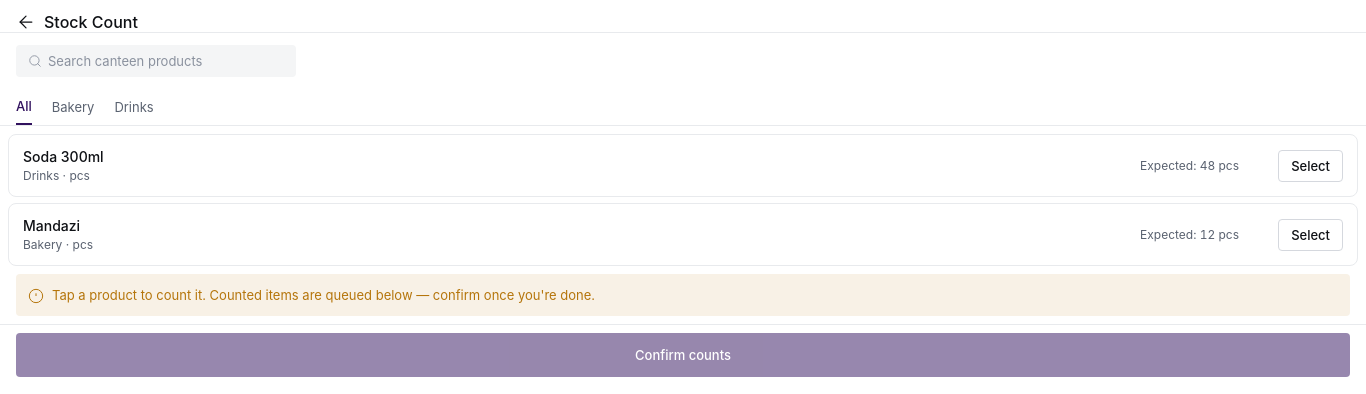
Scenario: K1 Canteen Stock Count Screen › Remove closes a row without submitting it
Expected: the text "Soda 300ml" is shown, [23,148,104,165]
Click the button "Select" in the row of "48" at (1311,166), box [1278,150,1343,182]
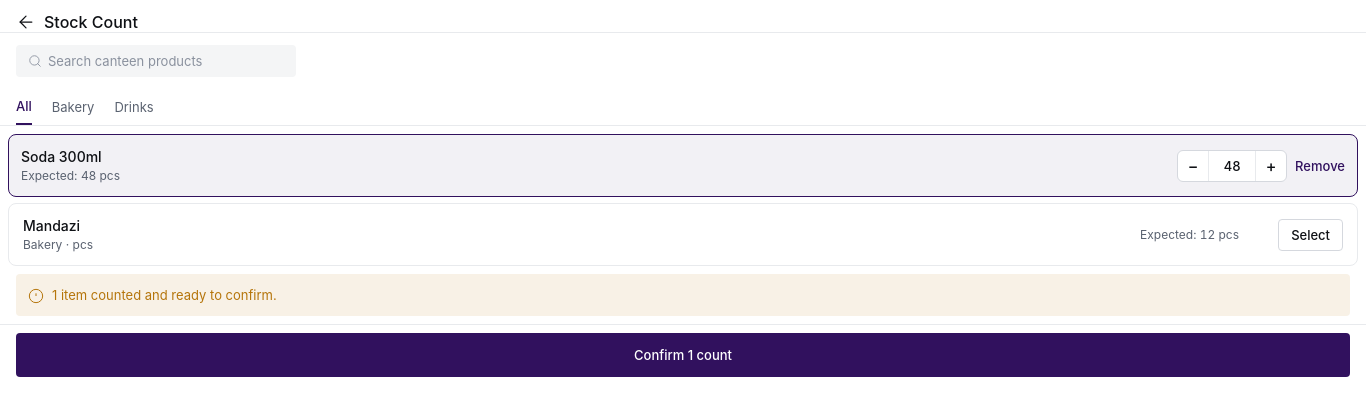
Expected: the button "Remove" is shown
Click the button "Remove" at (1320,166), box [1295,156,1345,174]
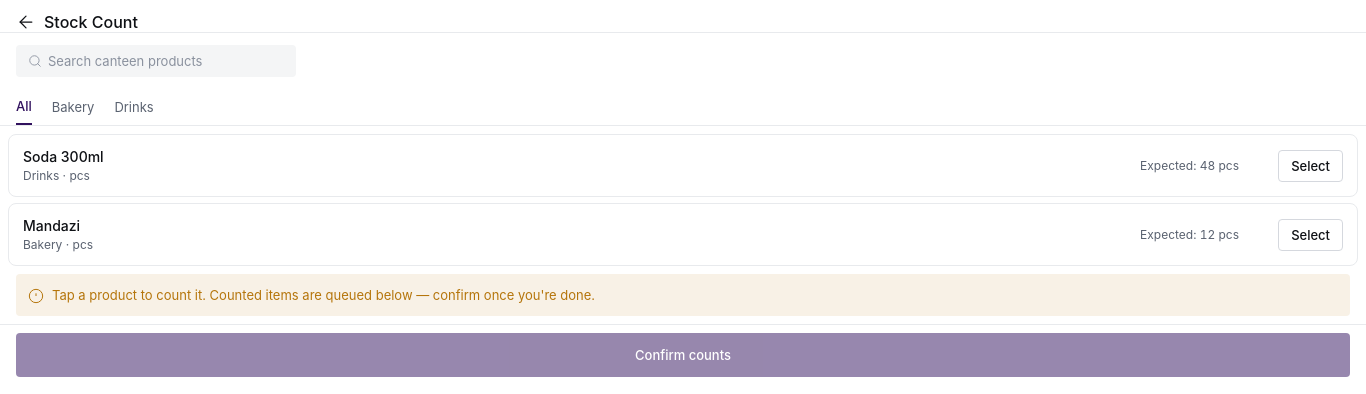
Expected: the button "Confirm counts" is disabled, [16,333,1350,377]
